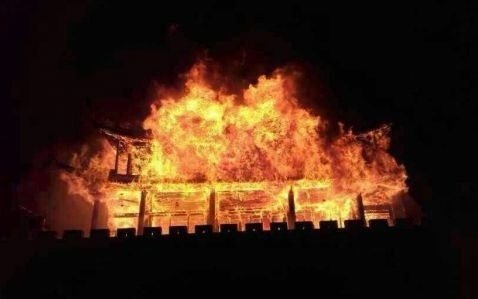fire: (38, 64, 434, 242)
